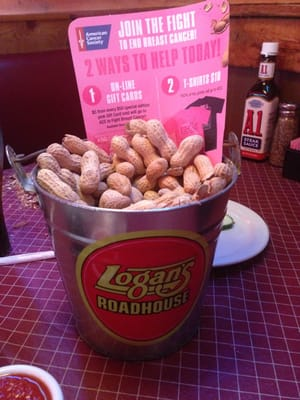pizza: (33, 146, 238, 361)
sushi: (0, 364, 65, 400)
